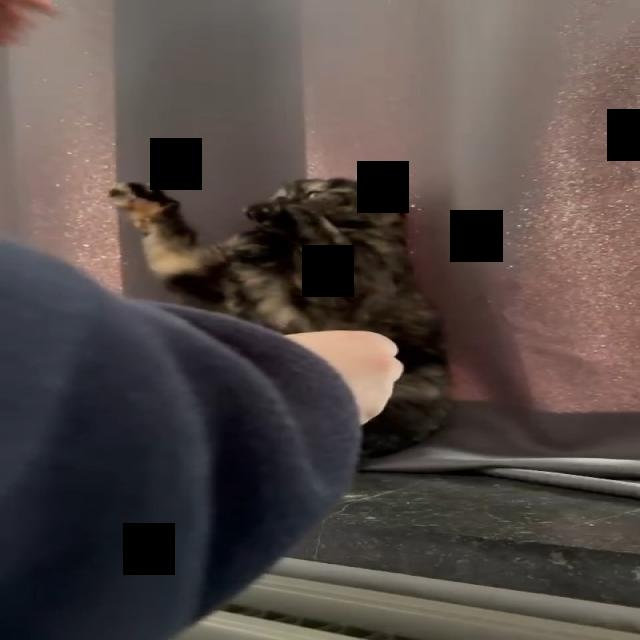authorized: (107, 164, 454, 459)
